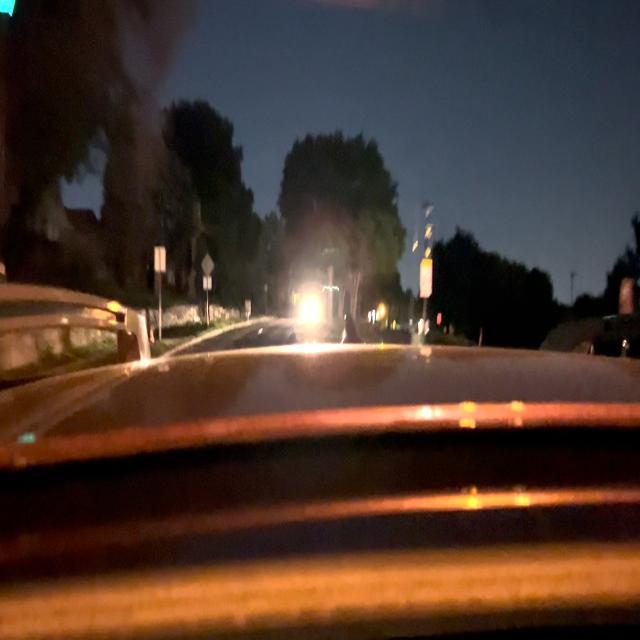back-of-sign: (202, 254, 214, 289), (155, 242, 167, 271)
